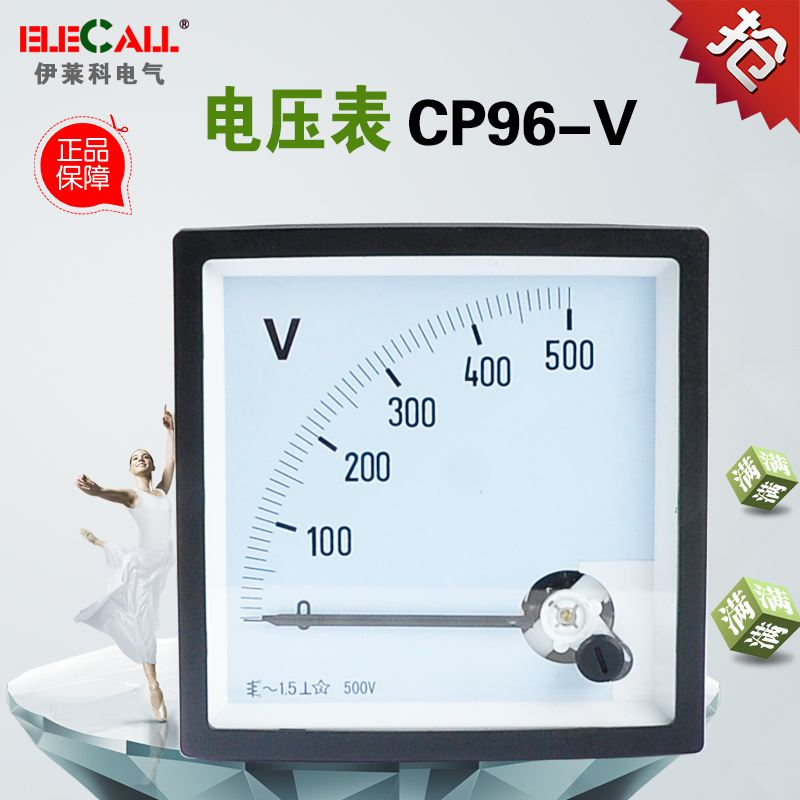pointer: (203, 259, 674, 728)
